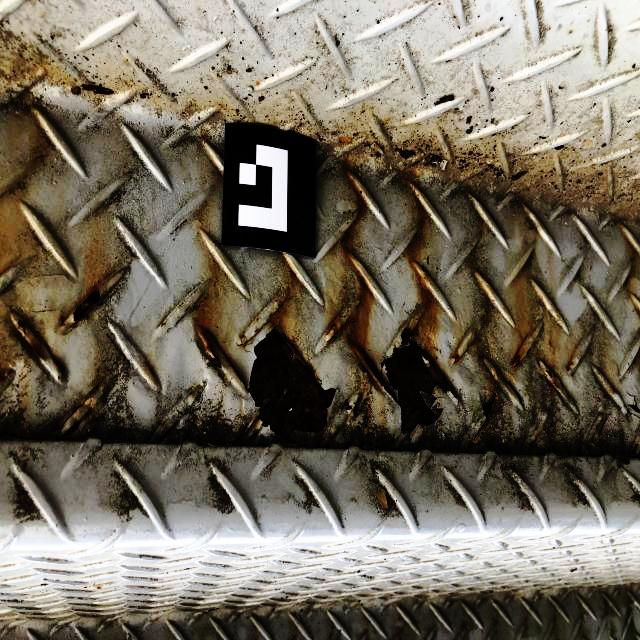Corrosion: (340, 158, 398, 404), (231, 318, 336, 446), (380, 325, 458, 445), (50, 383, 101, 439), (473, 388, 499, 443), (16, 319, 44, 361), (198, 326, 224, 369), (72, 289, 102, 323), (56, 418, 86, 441), (46, 347, 65, 380), (268, 295, 288, 324), (340, 394, 363, 416), (512, 337, 526, 371), (235, 332, 254, 355), (543, 366, 559, 393), (527, 430, 543, 452), (626, 391, 640, 415), (325, 321, 339, 343), (0, 368, 13, 384), (311, 437, 323, 449), (145, 364, 156, 377), (453, 347, 461, 364), (61, 315, 70, 327), (567, 362, 573, 373), (84, 410, 90, 417), (253, 327, 259, 333), (549, 339, 552, 347), (96, 586, 101, 589)
